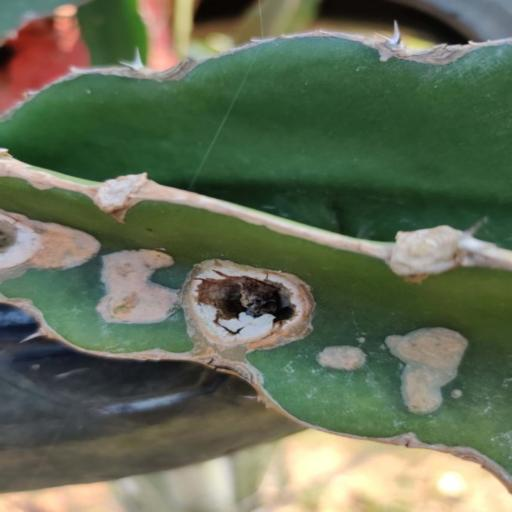stemcanker: (446, 381, 472, 408), (357, 328, 372, 348), (378, 343, 390, 355)
